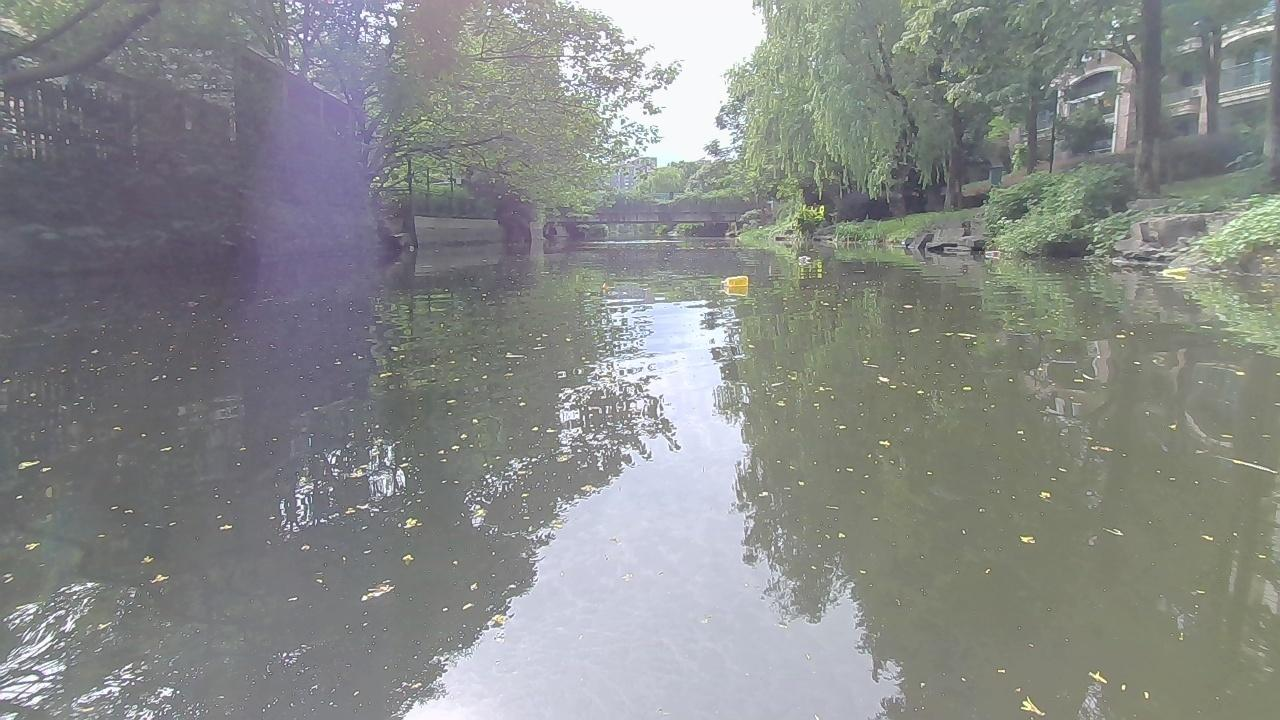bottle: (719, 272, 750, 286), (982, 249, 1001, 256), (794, 254, 807, 260)
